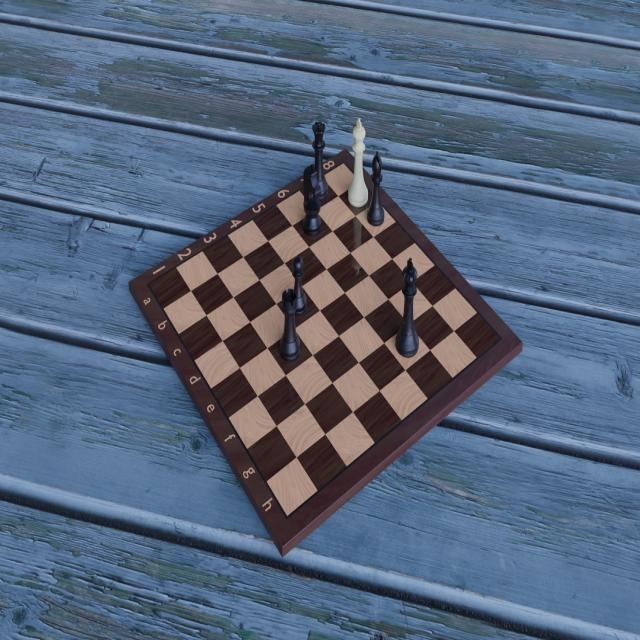black-bishop: (364, 154, 387, 229)
black-king: (394, 255, 422, 365)
black-knight: (303, 162, 325, 238)
black-pawn: (287, 255, 310, 321)
black-queen: (305, 114, 329, 207)
black-rook: (279, 286, 303, 362)
white-king: (348, 114, 373, 210)
